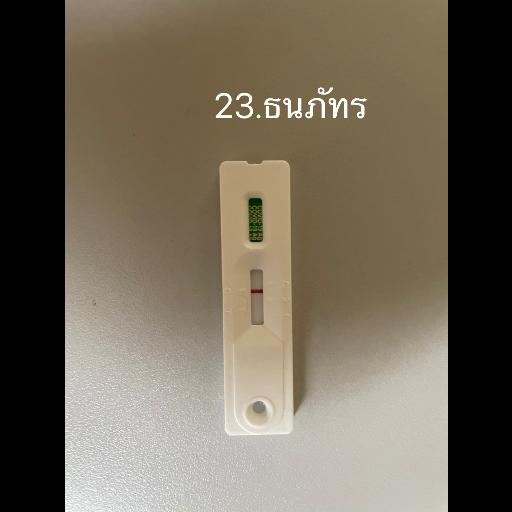Neg: (218, 158, 294, 434)
